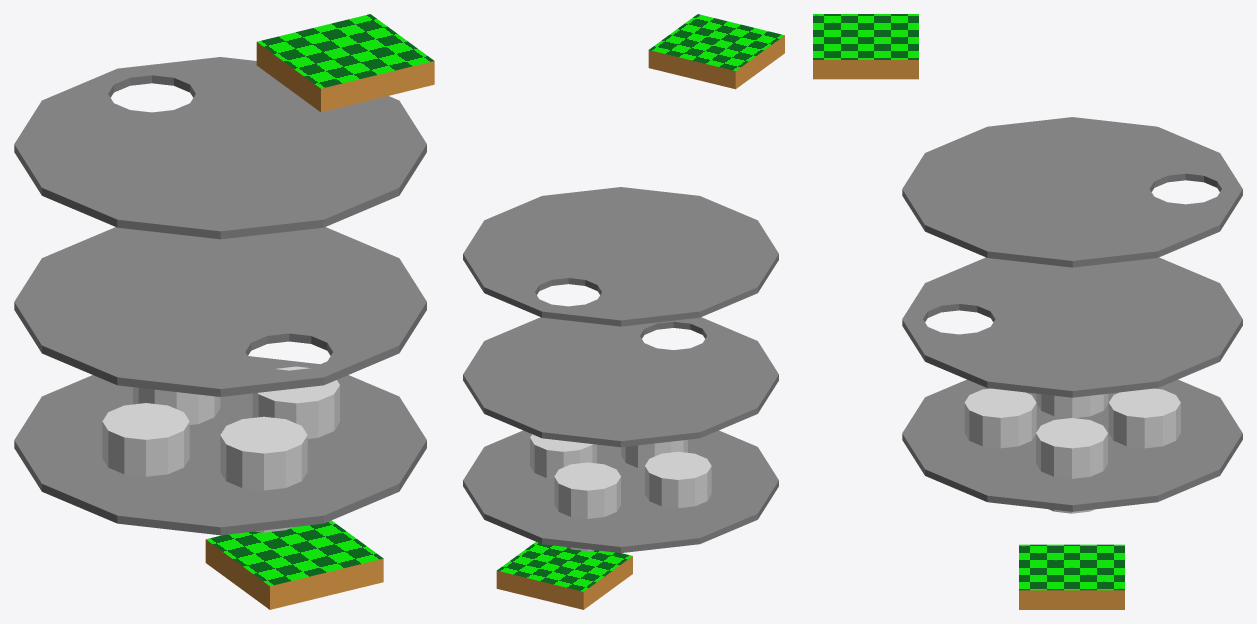
File: disk-hole.glb
3 renders of one model, left to right at view 1: azimuth 30°, elevation 25°; view 2: azimuth 150°, elevation 25°; view 3: azimuth 270°, elevation 25°, orthographic. The views are drawn at different scales.
Parts seen in each view (by area): view 1: Cylinder.001, Cylinder, Cylinder.002, Cylinder.003, Cube, Cube.001; view 2: Cylinder, Cylinder.001, Cylinder.002, Cylinder.003, Cube, Cube.001; view 3: Cylinder, Cylinder.001, Cylinder.002, Cylinder.003, Cube, Cube.001.
Part boxes in pixels (x1,y1,x2,y2): Cylinder.001: (14, 227, 426, 396); Cylinder: (14, 57, 426, 239); Cylinder.002: (14, 356, 426, 535); Cylinder.003: (102, 366, 339, 532); Cube: (256, 14, 434, 112); Cube.001: (205, 520, 383, 609); Cylinder: (463, 187, 778, 326); Cylinder.001: (463, 317, 778, 447); Cylinder.002: (463, 430, 778, 552); Cylinder.003: (530, 434, 711, 551); Cube: (648, 14, 784, 89); Cube.001: (496, 542, 632, 609); Cylinder: (902, 117, 1242, 267); Cylinder.001: (902, 257, 1242, 397); Cylinder.002: (902, 379, 1242, 511); Cylinder.003: (964, 388, 1180, 513); Cube: (813, 14, 918, 79); Cube.001: (1019, 544, 1124, 609).
Bounding box in the file's own units: 37.96 × 63.98 × 47.89.
Materials: 3 (2 with a texture image).
